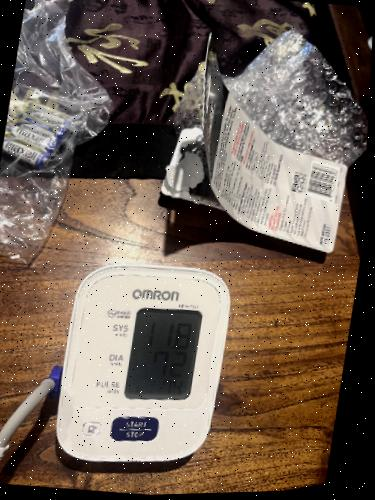bpm: (125, 304, 201, 406)
